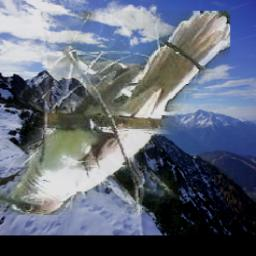Cuckoo: (0, 12, 230, 216)
